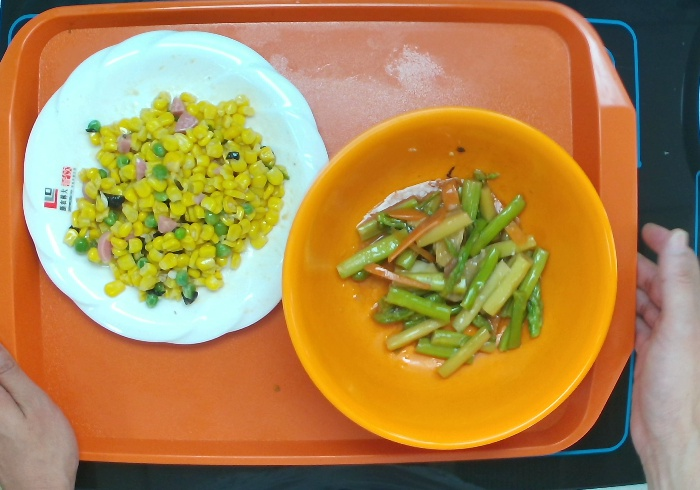ZNLD-Hua_Bian_Wan: (12, 23, 339, 357)
ZNLD-Ju_Se_Tang_Wan: (277, 101, 625, 463)
